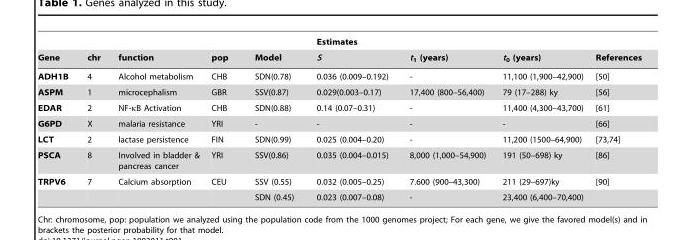table: (37, 37, 641, 201)
table column: (108, 37, 204, 201), (397, 37, 493, 201), (493, 37, 588, 201), (304, 37, 397, 201), (240, 37, 304, 201), (588, 37, 641, 201), (37, 37, 77, 201), (204, 37, 240, 201), (77, 37, 108, 201)
table column header: (37, 37, 641, 67)
table row: (37, 147, 641, 173), (37, 49, 641, 67), (37, 67, 641, 84), (37, 99, 641, 115), (37, 115, 641, 131), (37, 131, 641, 147), (37, 173, 641, 189), (37, 84, 641, 99), (37, 37, 641, 49), (37, 189, 641, 201)
table spanning cell: (108, 37, 204, 67), (397, 37, 493, 67), (493, 37, 588, 67), (304, 37, 397, 67), (240, 37, 304, 67), (588, 37, 641, 67), (37, 37, 77, 67), (37, 173, 77, 201), (204, 37, 240, 67), (77, 37, 108, 67)
